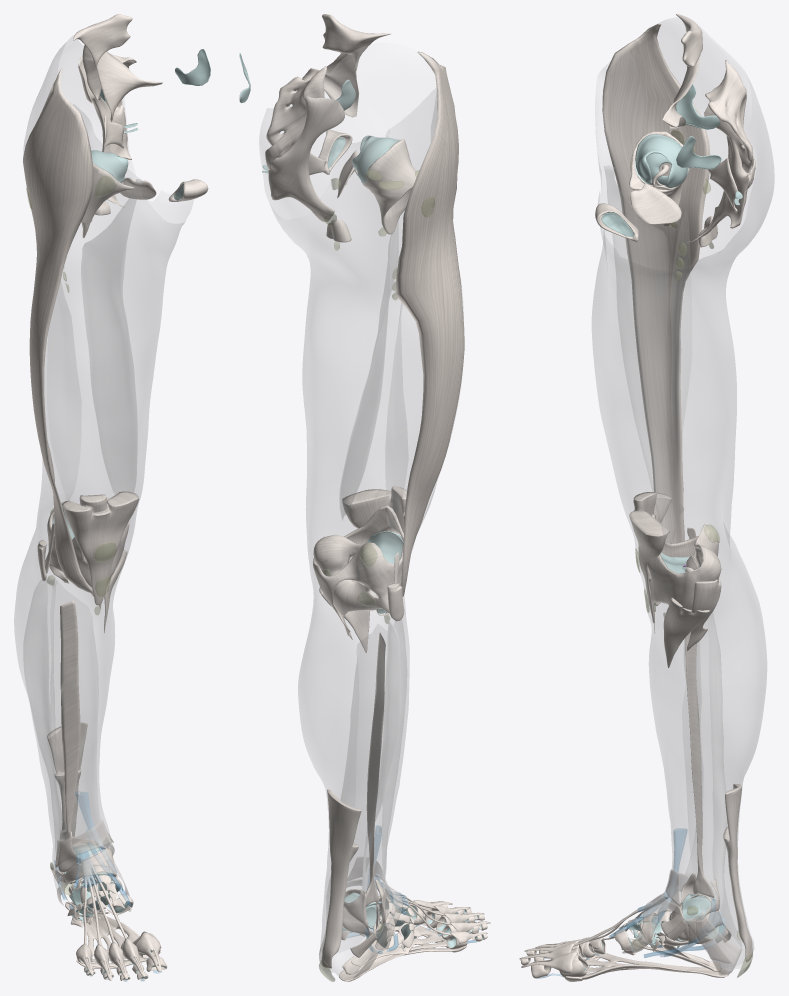
Rendered from aligned-lower-limb-connective-01.glb.
The picture shows the model from 3 angles, left to right: view 1: azimuth 30°, elevation 25°; view 2: azimuth 150°, elevation 25°; view 3: azimuth 270°, elevation 25°; orthographic projection. The views are drawn at different scales.
Parts seen in each view (by area): view 1: O3D_3fa0aa1d7821df, O3D_b52b263d140d76, O3D_47165a8e30fea3, O3D_3c03c4386564b3, O3D_fdf7cd453e55cf, O3D_aa67716191fc6a, O3D_cc5e1ff4e79b26, O3D_e33f2b598a1606, O3D_110d8056dbe8a4, O3D_ee04c4754a8032, O3D_14485c2d408b70, O3D_93009d7adea60e (+17 smaller); view 2: O3D_3fa0aa1d7821df, O3D_b52b263d140d76, O3D_47165a8e30fea3, O3D_b49dc103e7aa81, O3D_37de33b20d437d, O3D_3c03c4386564b3, O3D_14485c2d408b70, O3D_ee04c4754a8032, O3D_a64aaece882a12, O3D_aa67716191fc6a, O3D_f0081c55741dcb, O3D_cc5e1ff4e79b26 (+17 smaller); view 3: O3D_3fa0aa1d7821df, O3D_b52b263d140d76, O3D_47165a8e30fea3, O3D_3c03c4386564b3, O3D_37de33b20d437d, O3D_aa67716191fc6a, O3D_b49dc103e7aa81, O3D_cc5e1ff4e79b26, O3D_f0081c55741dcb, O3D_fdf7cd453e55cf, O3D_ee04c4754a8032, O3D_14485c2d408b70 (+17 smaller).
Boxes of the visible parts, x1,y1,x2,y2 form: O3D_3fa0aa1d7821df: [23, 39, 193, 572]; O3D_b52b263d140d76: [14, 505, 129, 898]; O3D_47165a8e30fea3: [23, 68, 93, 593]; O3D_3c03c4386564b3: [81, 179, 142, 494]; O3D_fdf7cd453e55cf: [62, 491, 139, 605]; O3D_aa67716191fc6a: [23, 579, 60, 852]; O3D_cc5e1ff4e79b26: [60, 600, 80, 839]; O3D_e33f2b598a1606: [96, 51, 162, 122]; O3D_110d8056dbe8a4: [73, 14, 132, 67]; O3D_ee04c4754a8032: [47, 722, 87, 875]; O3D_14485c2d408b70: [78, 56, 131, 207]; O3D_93009d7adea60e: [55, 843, 131, 911]; O3D_3fa0aa1d7821df: [259, 66, 463, 572]; O3D_b52b263d140d76: [298, 542, 409, 979]; O3D_47165a8e30fea3: [395, 51, 464, 596]; O3D_b49dc103e7aa81: [337, 43, 437, 169]; O3D_37de33b20d437d: [313, 505, 403, 616]; O3D_3c03c4386564b3: [339, 130, 398, 520]; O3D_14485c2d408b70: [268, 95, 344, 221]; O3D_ee04c4754a8032: [321, 789, 361, 968]; O3D_a64aaece882a12: [361, 139, 417, 234]; O3D_aa67716191fc6a: [362, 620, 400, 925]; O3D_f0081c55741dcb: [265, 66, 326, 169]; O3D_cc5e1ff4e79b26: [365, 633, 385, 906]; O3D_3fa0aa1d7821df: [592, 47, 774, 599]; O3D_b52b263d140d76: [643, 525, 766, 968]; O3D_47165a8e30fea3: [602, 23, 710, 606]; O3D_3c03c4386564b3: [604, 165, 675, 550]; O3D_37de33b20d437d: [647, 514, 721, 609]; O3D_aa67716191fc6a: [708, 613, 726, 909]; O3D_b49dc103e7aa81: [657, 18, 727, 113]; O3D_cc5e1ff4e79b26: [685, 632, 714, 897]; O3D_f0081c55741dcb: [705, 60, 755, 192]; O3D_fdf7cd453e55cf: [629, 492, 671, 623]; O3D_ee04c4754a8032: [723, 784, 752, 961]; O3D_14485c2d408b70: [686, 91, 751, 242].
Bounding box in the file's own units: 0.2236 × 1.02 × 0.2434.
15 materials, 9 textured.
